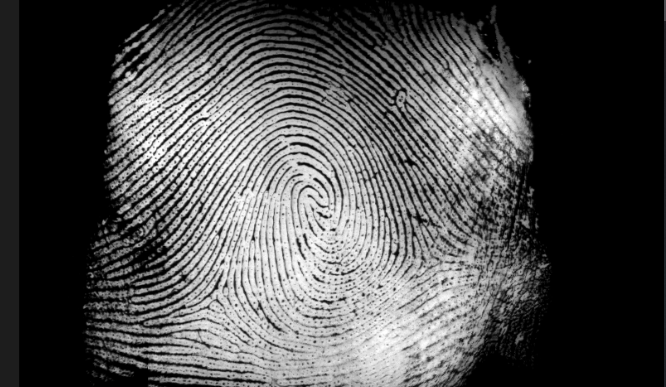nucelo: (295, 180, 335, 219)
verticilo: (412, 242, 454, 274), (199, 278, 236, 310)
